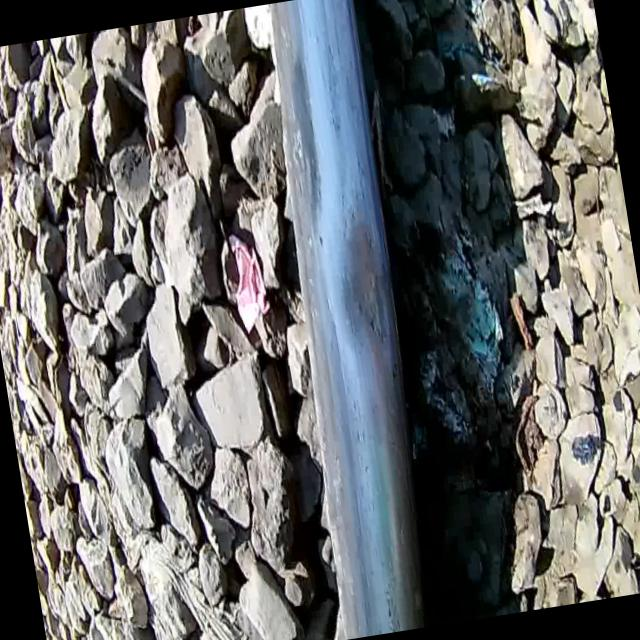Squats: (233, 0, 464, 640)
